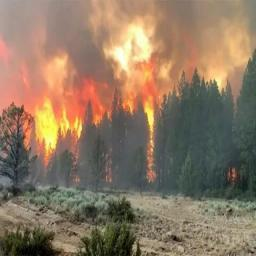Heavy smoke: (0, 0, 255, 108)
Large fire: (0, 26, 242, 190)
